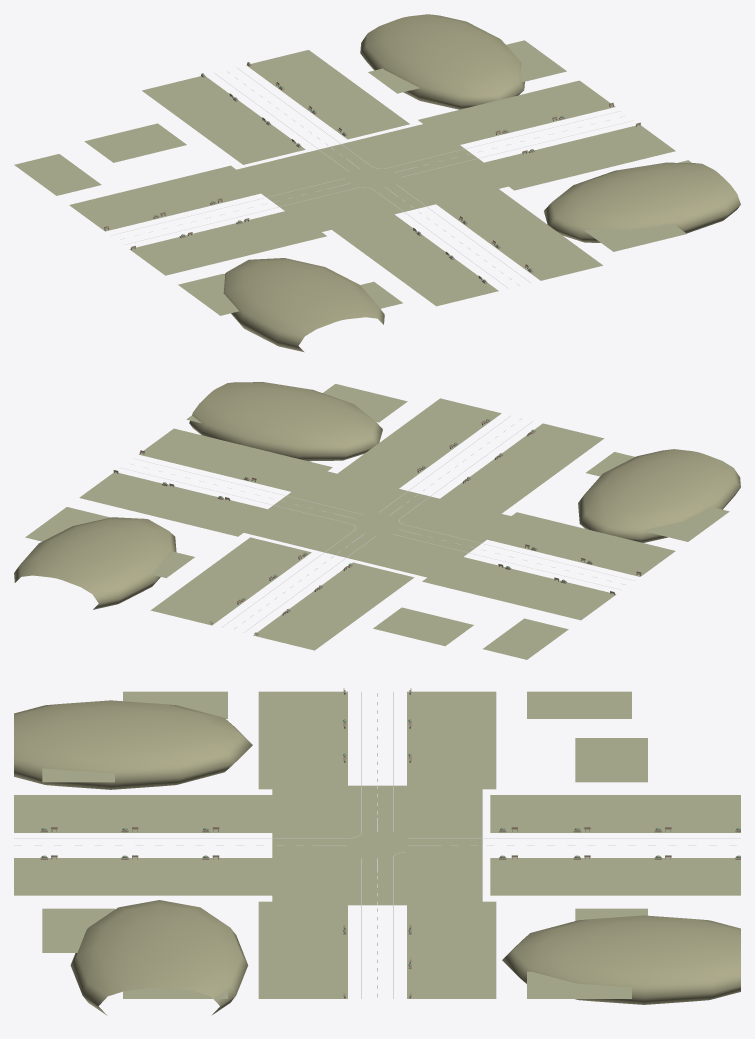
The picture shows the model from 3 angles, top to bottom: view 1: azimuth 30°, elevation 25°; view 2: azimuth 150°, elevation 25°; view 3: azimuth 270°, elevation 25°; orthographic projection. The views are drawn at different scales.
Parts seen in each view (by area): view 1: static; view 2: static; view 3: static.
Part boxes in pixels (x1=…): static: x1=14, y1=14, x2=740, y2=352; static: x1=14, y1=382, x2=740, y2=659; static: x1=14, y1=688, x2=740, y2=1015.
Size of what is drawn, in the model's own units: 180 by 14.08 by 180.
